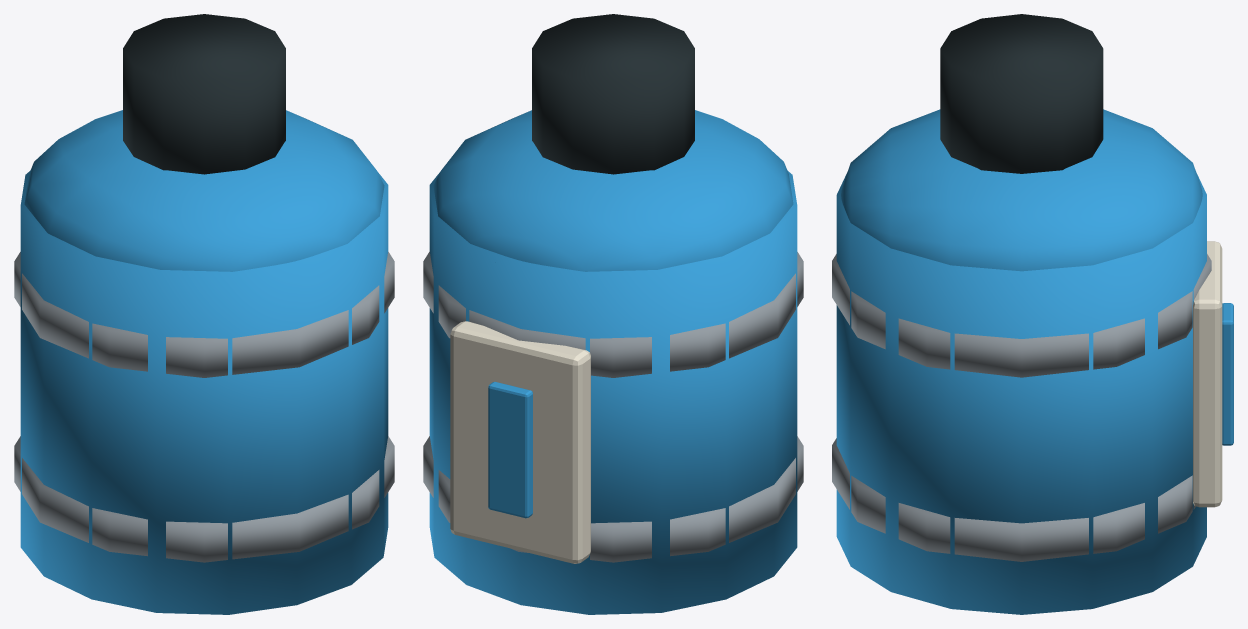
Rendered from ItemShieldMini.glb.
The picture shows the model from 3 angles, left to right: view 1: azimuth 30°, elevation 25°; view 2: azimuth 150°, elevation 25°; view 3: azimuth 270°, elevation 25°; orthographic projection.
Visible parts, largest first — view 1: ItemShieldMini; view 2: ItemShieldMini; view 3: ItemShieldMini.
Part boxes in pixels (x1,y1,x2,y2): ItemShieldMini: (14, 14, 394, 614); ItemShieldMini: (423, 14, 803, 614); ItemShieldMini: (832, 14, 1233, 614).
Bounding box in the file's own units: 0.1128 × 0.16 × 0.1194.
